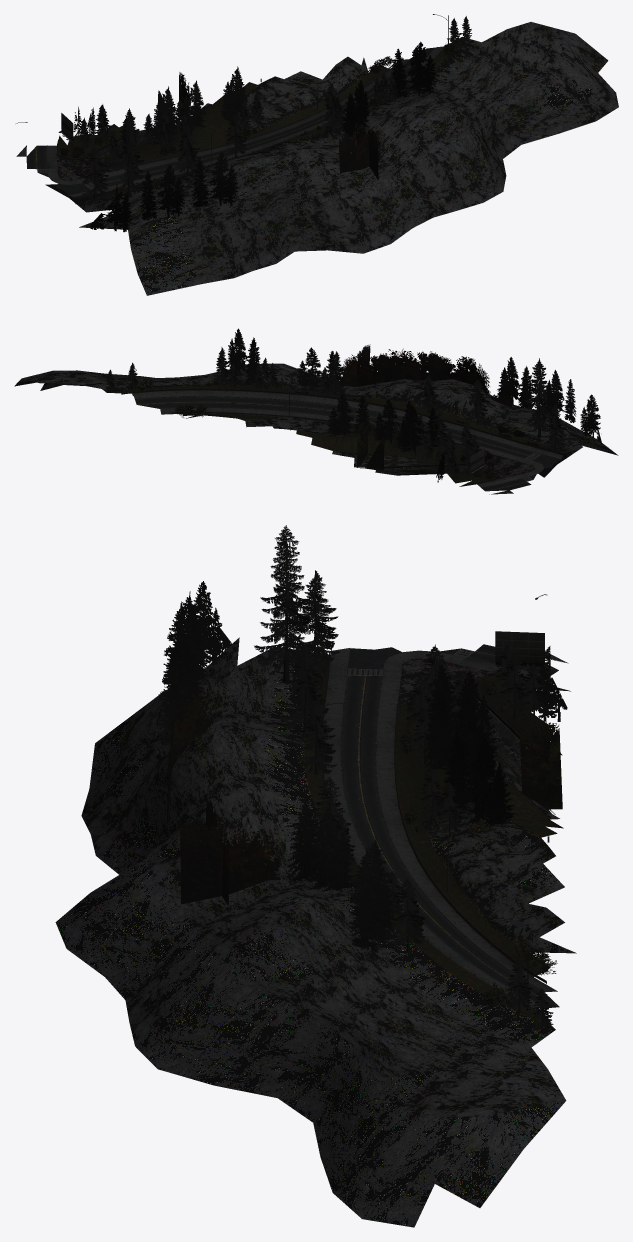
Rendered from cell_15_1.gltf.
The picture shows the model from 3 angles, top to bottom: view 1: azimuth 30°, elevation 25°; view 2: azimuth 150°, elevation 25°; view 3: azimuth 270°, elevation 25°; orthographic projection. The views are drawn at different scales.
Parts seen in each view (by area): view 1: cell_15_1; view 2: cell_15_1; view 3: cell_15_1.
Boxes of the visible parts, left/top/right/bottom form: cell_15_1: left=16, top=14, right=618, bottom=295; cell_15_1: left=14, top=328, right=618, bottom=494; cell_15_1: left=55, top=525, right=576, bottom=1227.
Bounding box in the file's own units: 273 × 61.38 × 116.
Materials: 41 (41 with a texture image).
